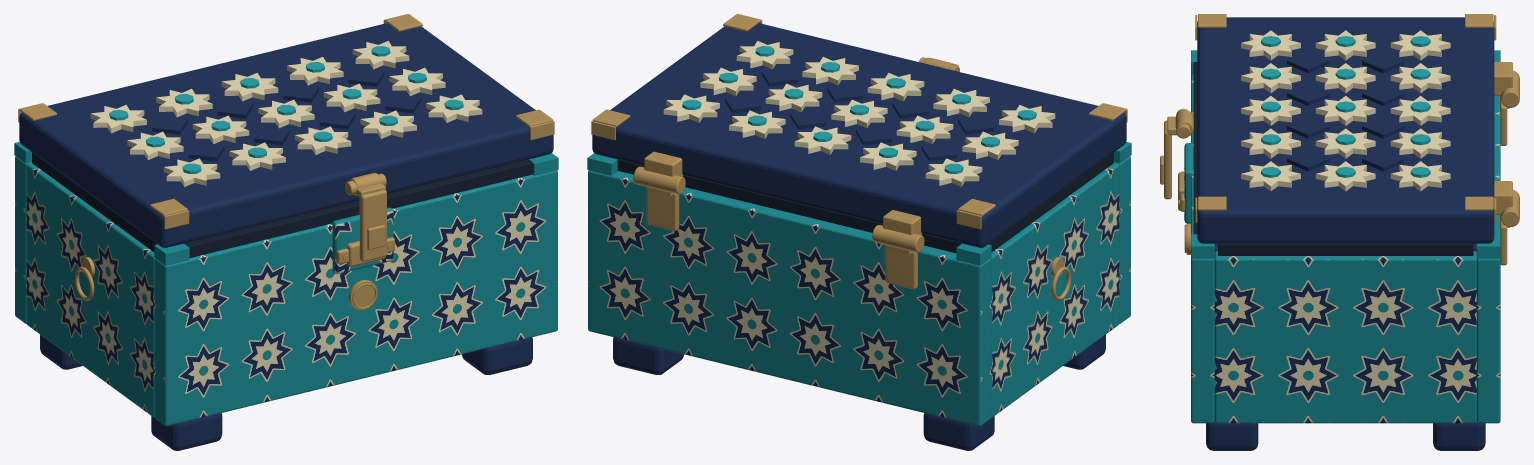
Rendered from iran.glb.
3 views of the same model, side by side, from view 1: azimuth 30°, elevation 25°; view 2: azimuth 150°, elevation 25°; view 3: azimuth 270°, elevation 25° (orthographic). The views are drawn at different scales.
Visible parts, largest first — view 1: Ceramic body / front rear, Lid / polished slab, Ceramic body / sides, Mineral seam / long, Ceramic body / front rear.001, Ceramic / foot, Ceramic / foot.002, Latch / lifting hasp, Ceramic / clasp seat, Mineral seam / side, Mosaic / eight point star.014, Mosaic / eight point star (+16 smaller); view 2: Ceramic body / front rear.001, Lid / polished slab, Ceramic body / sides, Mineral seam / long.001, Ceramic body / front rear, Ceramic / foot.001, Ceramic / foot.003, Mineral seam / side, Hinge / fixed mount.001, Hinge / fixed mount, Mosaic / eight point star.012, Mosaic / eight point star.002 (+20 smaller); view 3: Lid / polished slab, Ceramic body / sides.001, Ceramic body / front rear.001, Ceramic body / front rear, Mineral seam / side.001, Ceramic / foot.003, Ceramic / foot.002, Mosaic / eight point star.008, Mosaic / eight point star.005, Mosaic / eight point star.004, Mosaic / eight point star.002, Mosaic / eight point star.007 (+31 smaller).
Part boxes in pixels (<box>): Ceramic body / front rear: <box>154,170,557,426</box>; Lid / polished slab: <box>19,23,553,247</box>; Ceramic body / sides: <box>26,163,155,417</box>; Mineral seam / long: <box>184,159,533,257</box>; Ceramic body / front rear.001: <box>15,156,31,323</box>; Ceramic / foot: <box>151,413,222,450</box>; Ceramic / foot.002: <box>462,337,532,374</box>; Latch / lifting hasp: <box>359,190,386,261</box>; Ceramic / clasp seat: <box>332,207,393,273</box>; Mineral seam / side: <box>32,152,157,252</box>; Mosaic / eight point star.014: <box>352,40,409,69</box>; Mosaic / eight point star: <box>163,158,220,186</box>; Ceramic body / front rear.001: <box>588,170,991,426</box>; Lid / polished slab: <box>592,23,1126,247</box>; Ceramic body / sides: <box>990,163,1119,417</box>; Mineral seam / long.001: <box>617,159,961,253</box>; Ceramic body / front rear: <box>1114,156,1130,323</box>; Ceramic / foot.001: <box>923,413,994,450</box>; Ceramic / foot.003: <box>613,337,683,374</box>; Mineral seam / side: <box>988,152,1113,252</box>; Hinge / fixed mount.001: <box>646,187,679,230</box>; Hinge / fixed mount: <box>885,245,917,289</box>; Mosaic / eight point star.012: <box>736,40,793,69</box>; Mosaic / eight point star.002: <box>925,158,982,186</box>; Lid / polished slab: <box>1197,17,1494,243</box>; Ceramic body / sides.001: <box>1214,251,1476,423</box>; Ceramic body / front rear.001: <box>1476,95,1500,423</box>; Ceramic body / front rear: <box>1191,74,1214,423</box>; Mineral seam / side.001: <box>1218,243,1473,255</box>; Ceramic / foot.003: <box>1433,421,1485,450</box>; Ceramic / foot.002: <box>1206,421,1258,450</box>; Mosaic / eight point star.008: <box>1390,95,1450,125</box>; Mosaic / eight point star.005: <box>1390,63,1450,93</box>; Mosaic / eight point star.004: <box>1315,63,1375,93</box>; Mosaic / eight point star.002: <box>1390,30,1450,60</box>; Mosaic / eight point star.007: <box>1315,96,1375,125</box>.
Bounding box in the file's own units: 3.79 × 2.28 × 2.88.
Materials: 6 (1 with a texture image).
